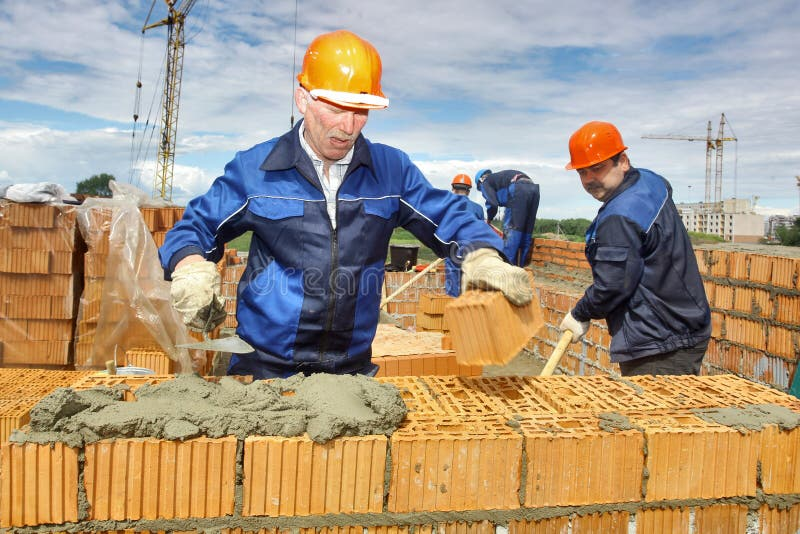yellow_hat: (294, 27, 419, 120)
